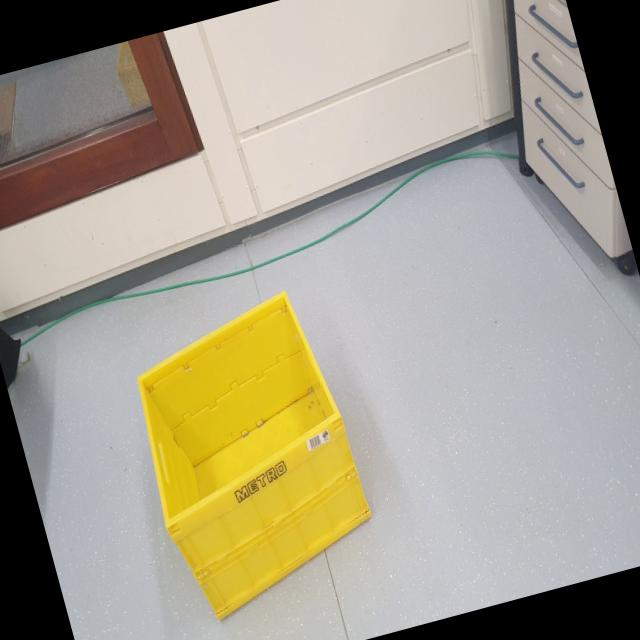box: (107, 276, 396, 628)
